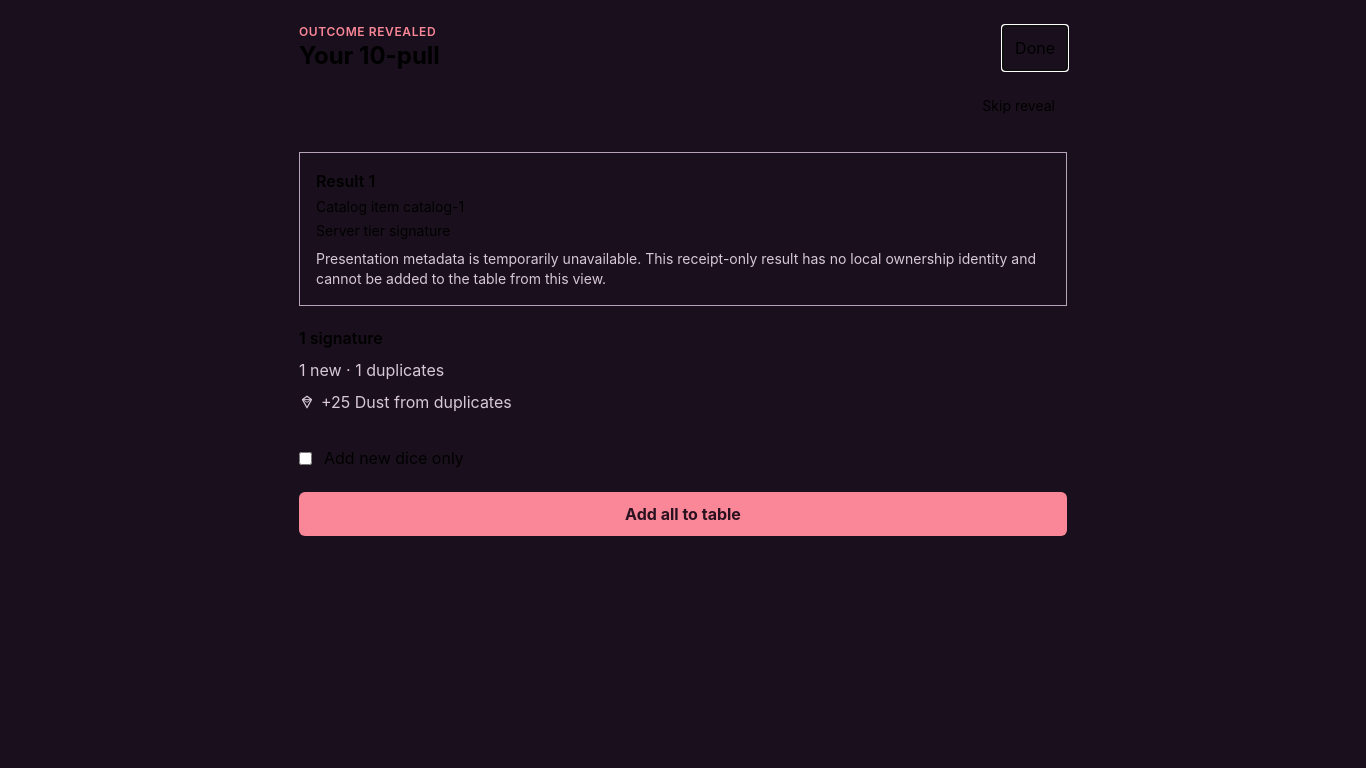
Scenario: PullRevealOverlay › omits stale copy counts and skips unjoined identities when claiming
The width and height of the screenshot is (1366, 768).
Expected: the element with test id "pull-receipt-only-result-1" shows "Catalog item catalog-1", [299,152,1067,306]
Click the button "Skip reveal" at (1019, 106), box [970,84,1067,128]
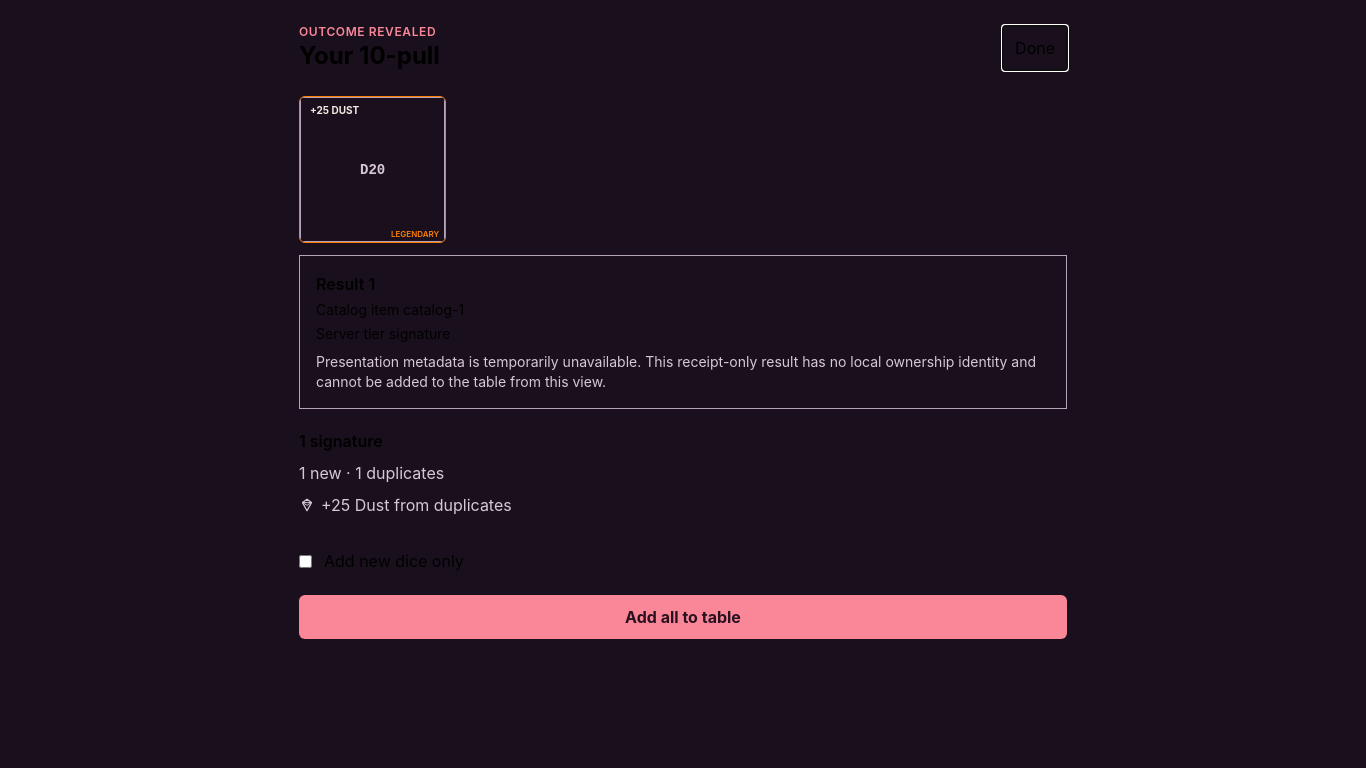
Click the button "Add all to table" at (683, 617), box [299,595,1067,639]
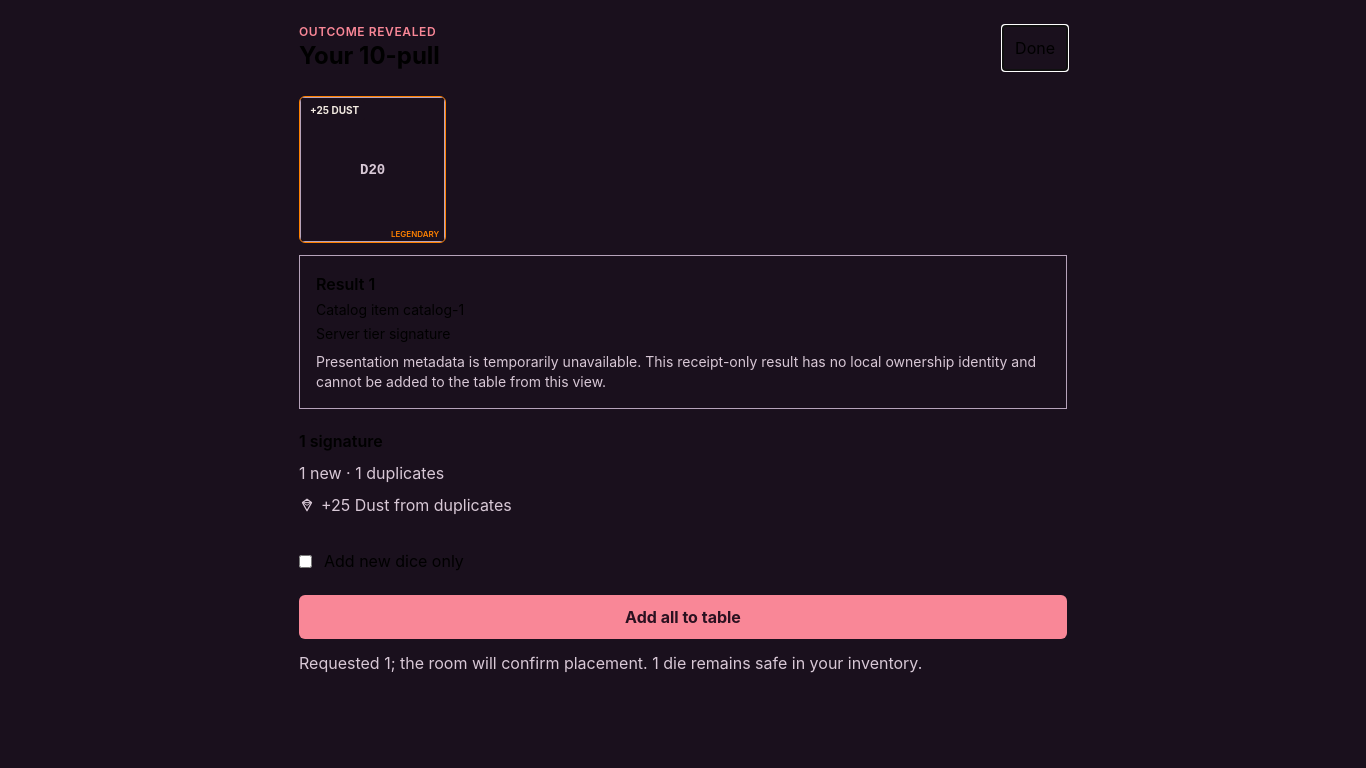
Result: the text "Requested 1; the room will confirm placement. 1 die remains safe in your inventory." is shown at [299,653,922,673]
